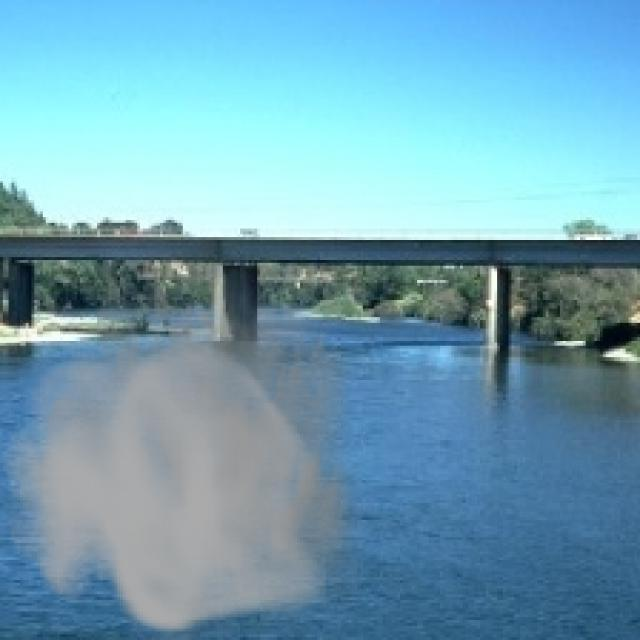Smoke: (2, 234, 378, 637)
